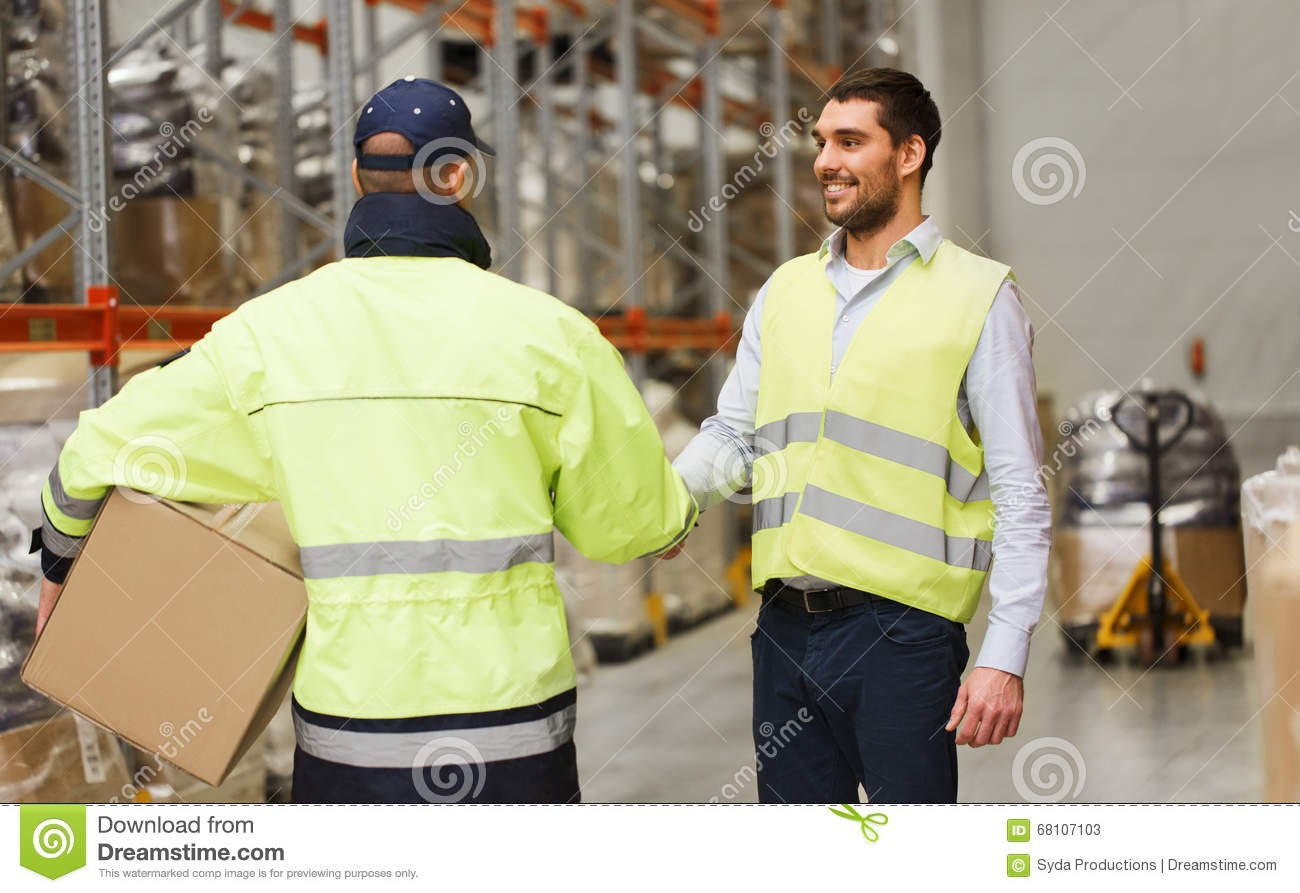person with partial safety: (151, 77, 682, 804), (701, 66, 1065, 804)
safety vest: (42, 257, 699, 733), (754, 245, 1009, 624)
